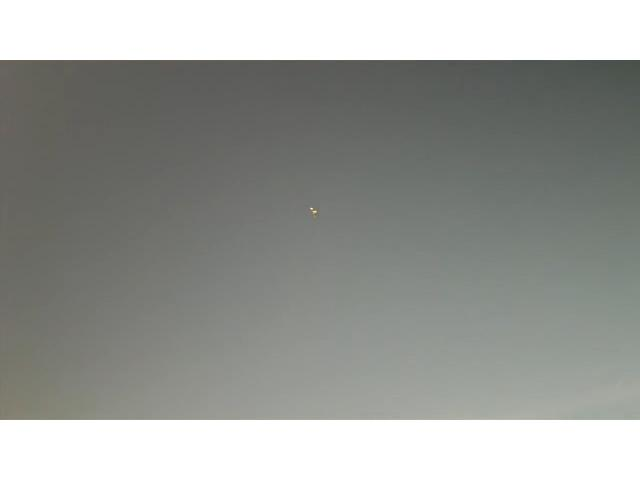Anti-Drone: (305, 201, 323, 223)
